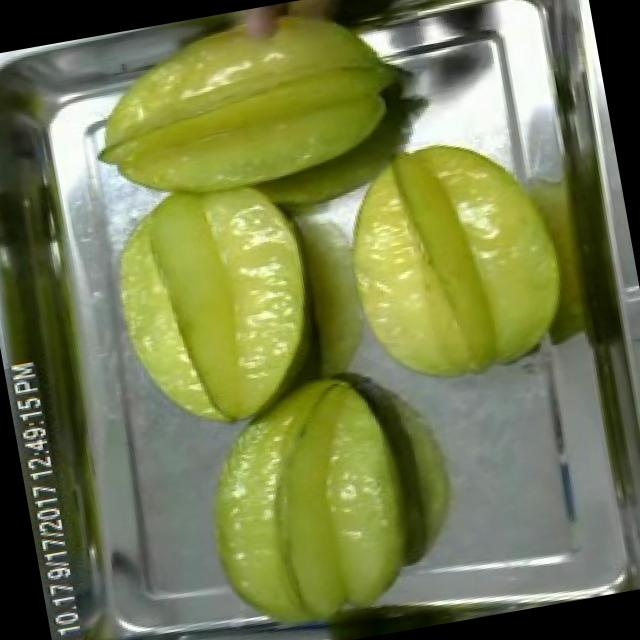fruit: (61, 0, 421, 239), (313, 110, 593, 408), (84, 159, 346, 457), (177, 348, 437, 640)
